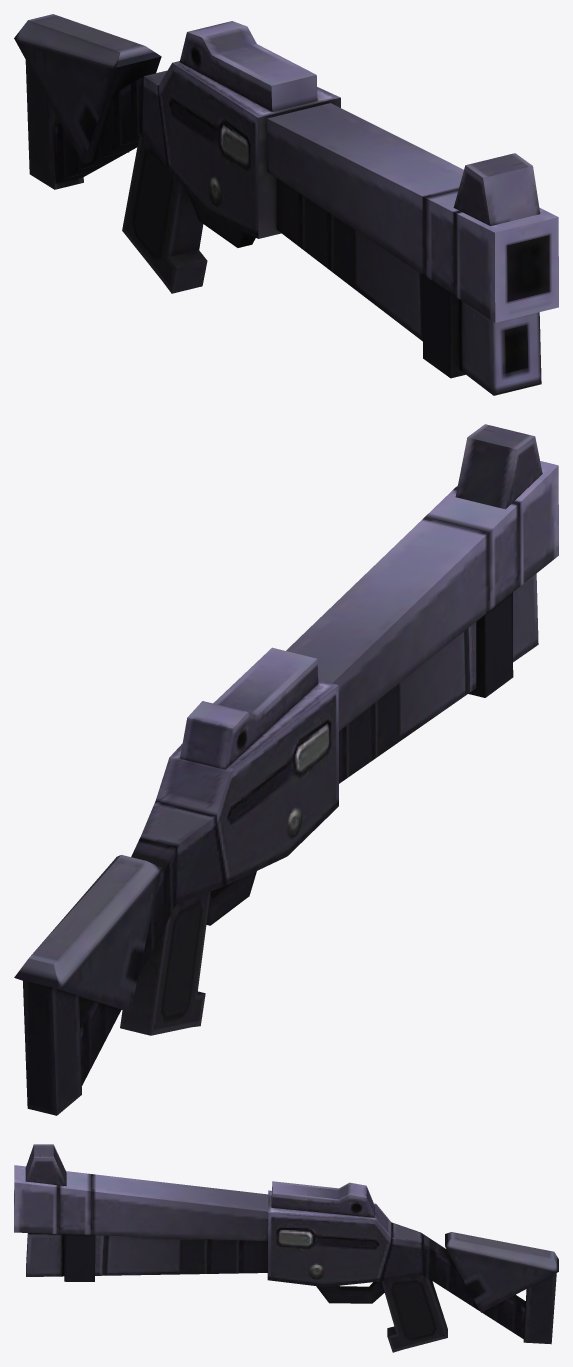
Rendered from XM1014_30286ba2__Weapon_XM1014_8939b7f8_c1f257.obj.
The picture shows the model from 3 angles, top to bottom: view 1: azimuth 30°, elevation 25°; view 2: azimuth 150°, elevation 25°; view 3: azimuth 270°, elevation 25°; orthographic projection. The views are drawn at different scales.
Size of the model in its own units: 0.1534 by 0.6273 by 1.57.
1 material, 1 textured.
